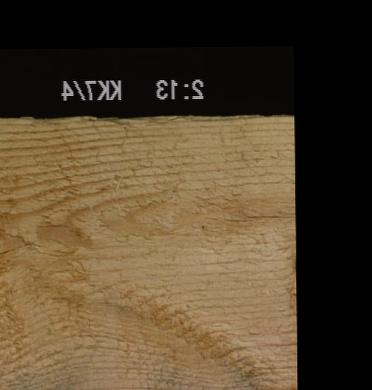split: (194, 211, 294, 229)
